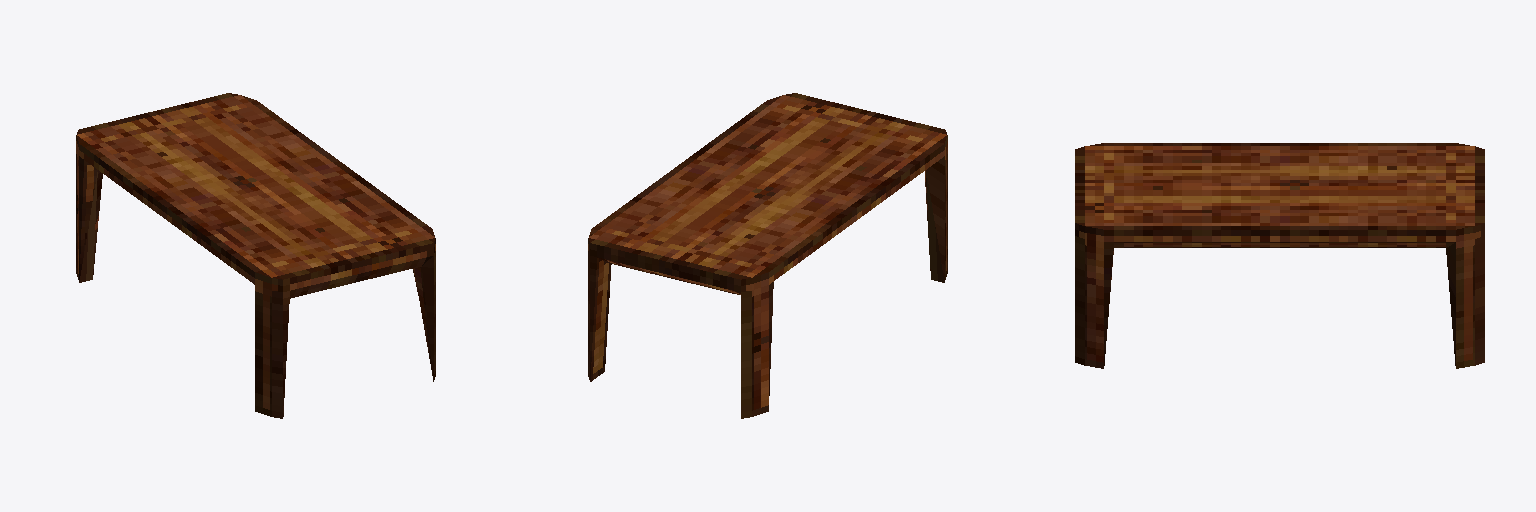
3 views of the same model, side by side, from view 1: azimuth 30°, elevation 25°; view 2: azimuth 150°, elevation 25°; view 3: azimuth 270°, elevation 25° (orthographic).
Visible parts, largest first — view 1: cuboid; view 2: cuboid; view 3: cuboid.
Boxes of the visible parts, x1=… form: cuboid: x1=76, y1=93, x2=435, y2=418; cuboid: x1=588, y1=93, x2=947, y2=418; cuboid: x1=1075, y1=143, x2=1484, y2=368.
Bounding box in the file's own units: 1 × 0.75 × 2.
Materials: 1 (1 with a texture image).